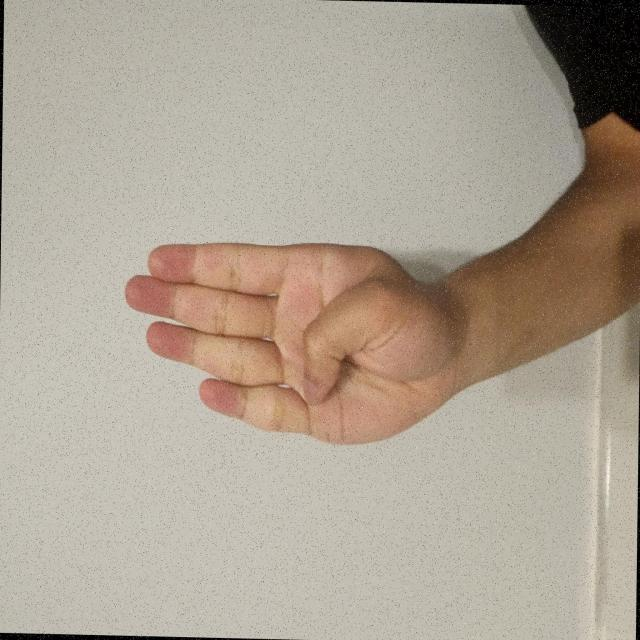B: (135, 156, 304, 620)
